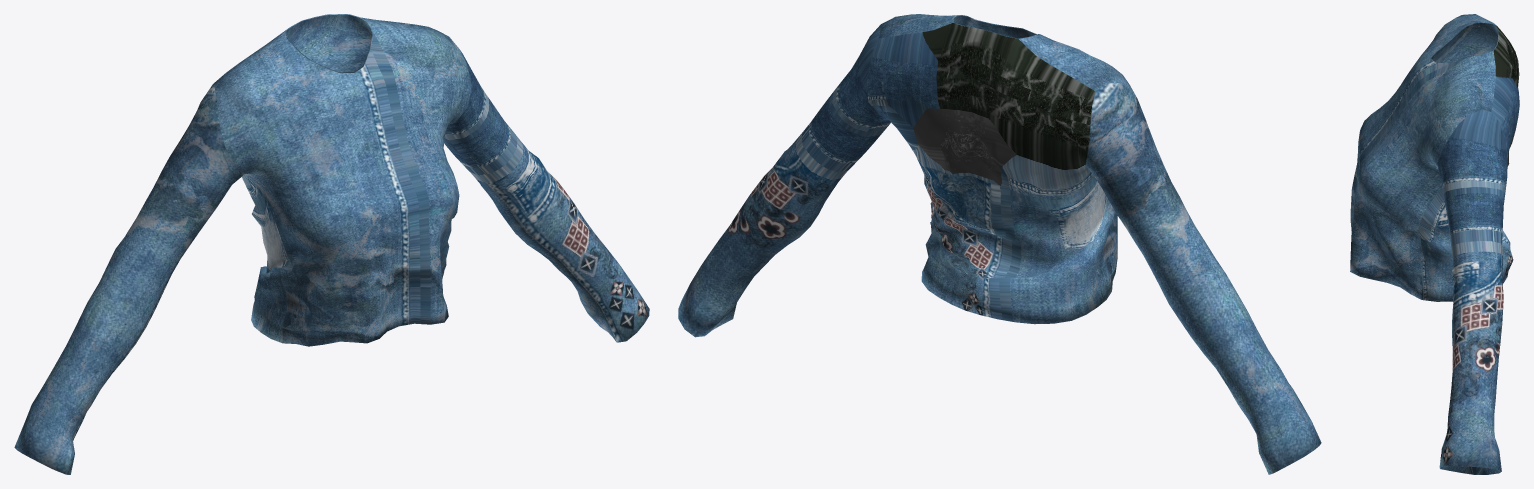
3 renders of one model, left to right at view 1: azimuth 30°, elevation 25°; view 2: azimuth 150°, elevation 25°; view 3: azimuth 270°, elevation 25°, orthographic. The views are drawn at different scales.
Visible parts, largest first — view 1: hash_D067EE79.model; view 2: hash_D067EE79.model; view 3: hash_D067EE79.model.
Part boxes in pixels (x1,y1,x2,y2): hash_D067EE79.model: [14, 14, 649, 474]; hash_D067EE79.model: [678, 14, 1321, 474]; hash_D067EE79.model: [1350, 14, 1519, 474].
Bounding box in the file's own units: 1.13 × 0.6496 × 0.3096.
